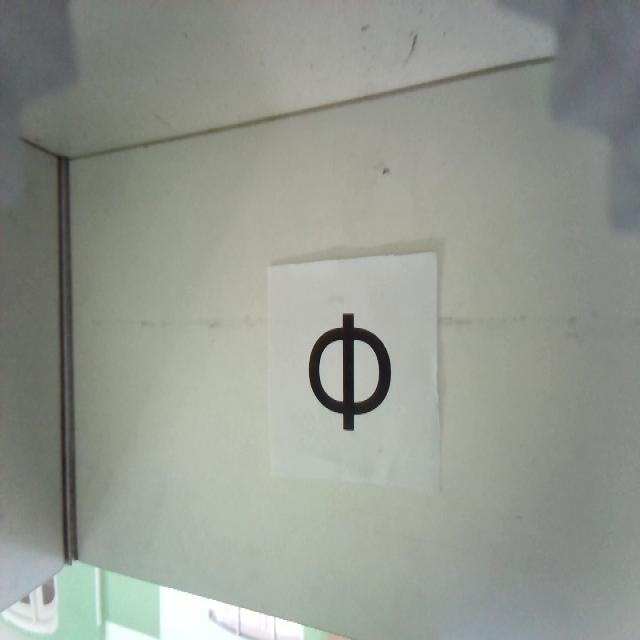F: (308, 312, 392, 428)
